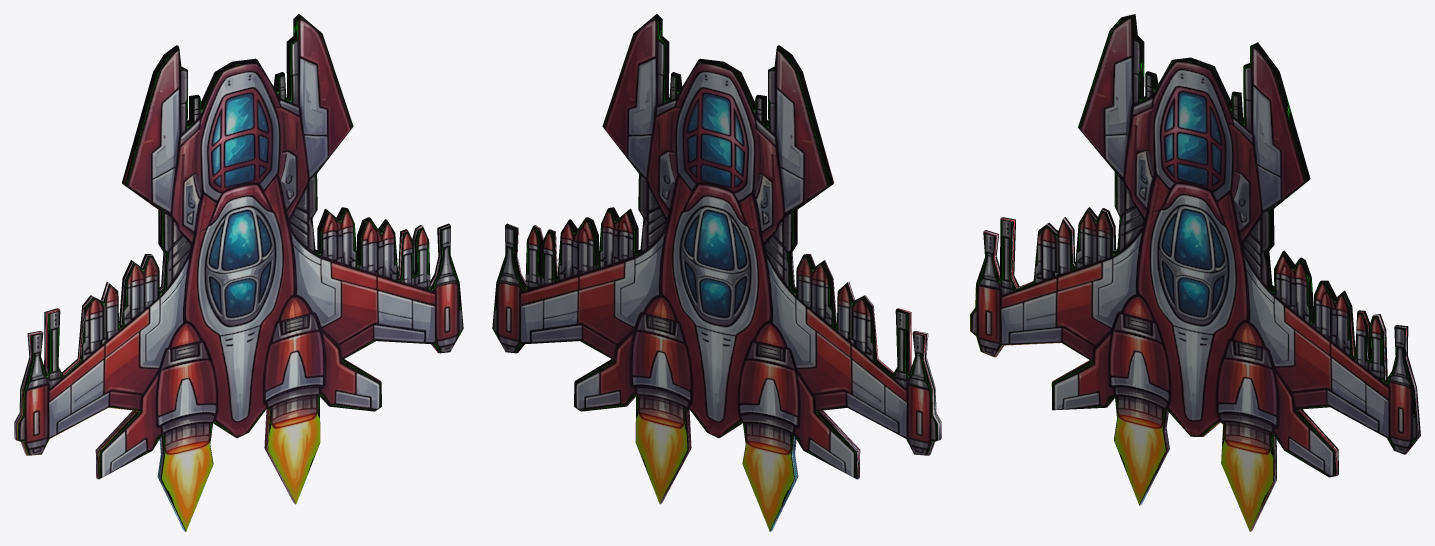
File: Ship8.glb
3 renders of one model, left to right at view 1: azimuth 30°, elevation 25°; view 2: azimuth 150°, elevation 25°; view 3: azimuth 330°, elevation 25°, orthographic.
Size of the model in its own units: 0.7233 by 0.755 by 0.01.
2 materials, 2 textured.
